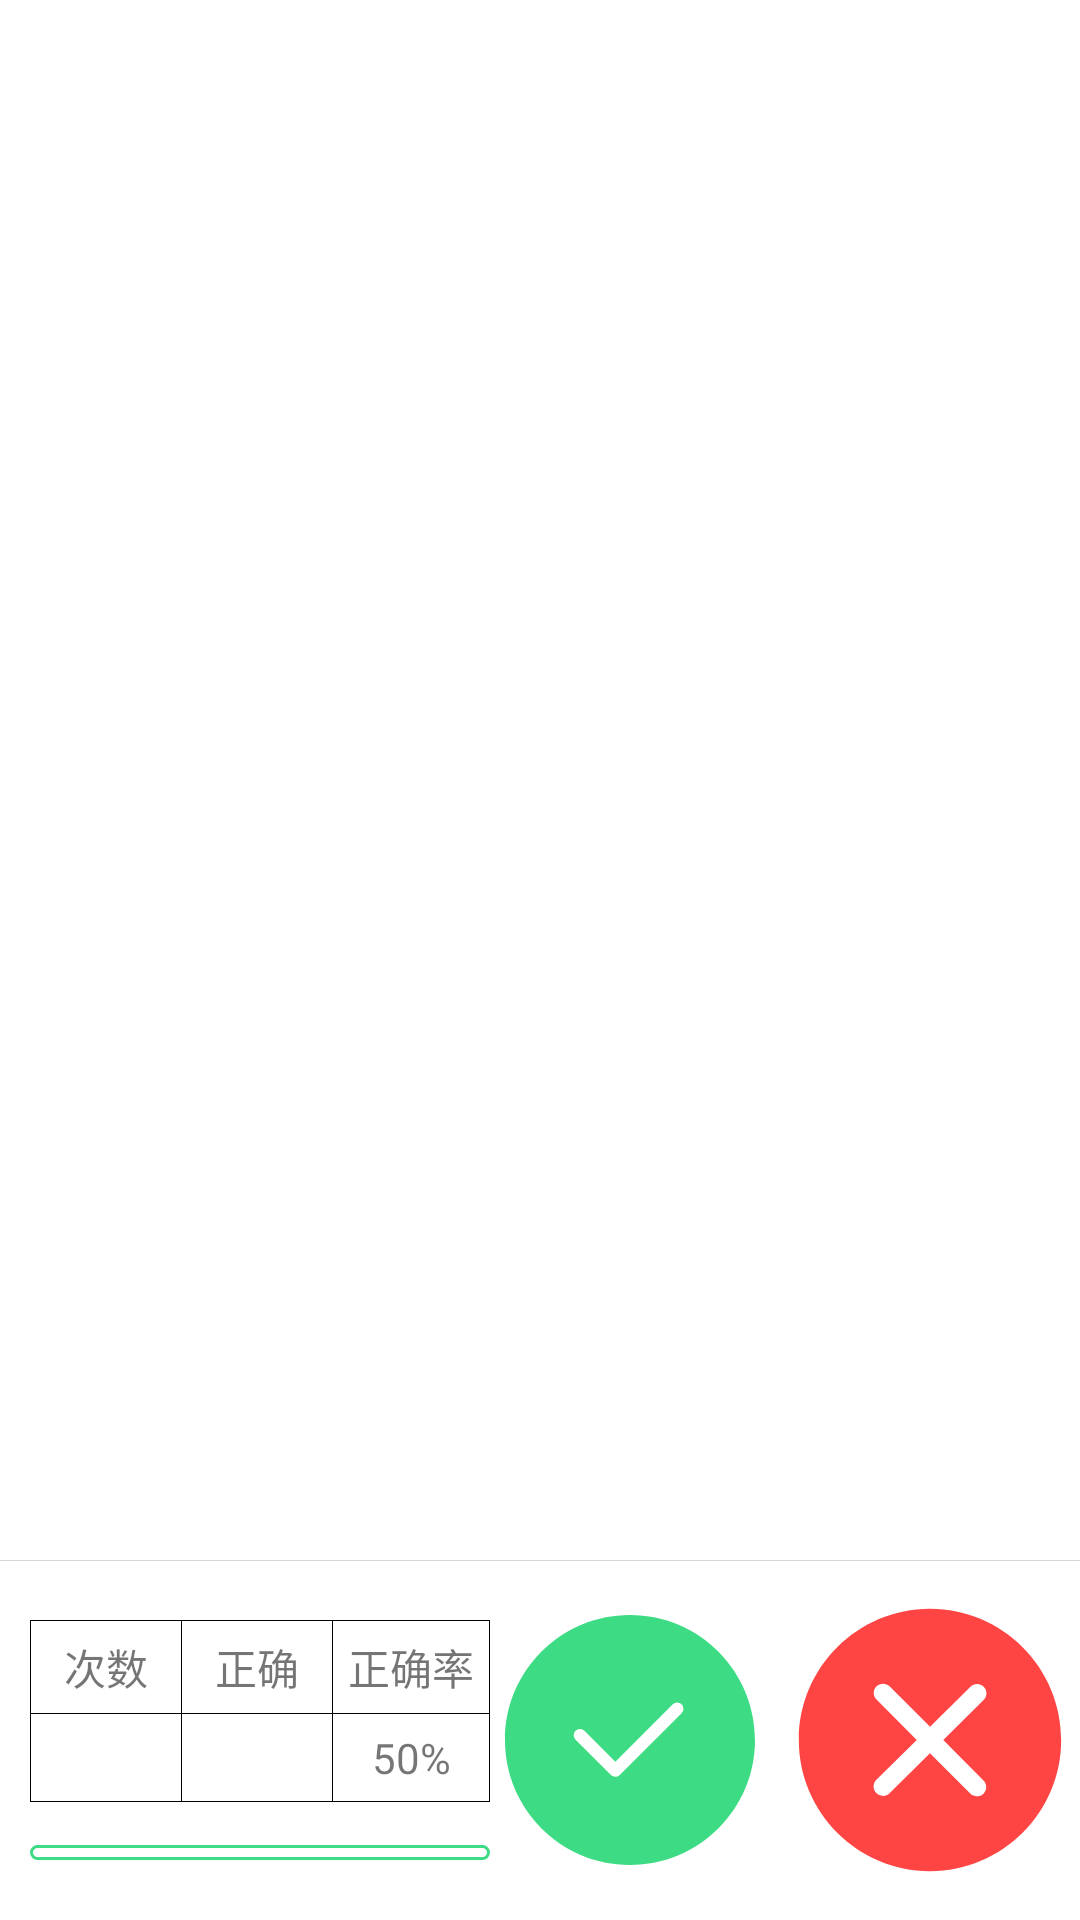

Icons on this 1080 × 1920 Android screen, each with the point to tap as (x=x, y=y):
right: (x=630, y=1740)
wrong: (x=930, y=1740)
